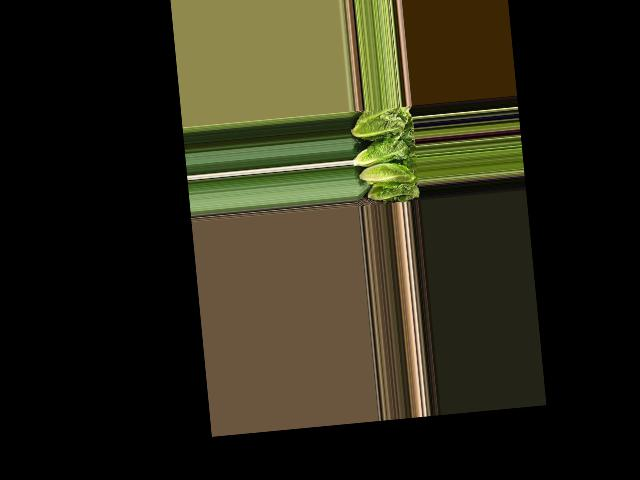lettuce: (368, 181, 420, 201)
